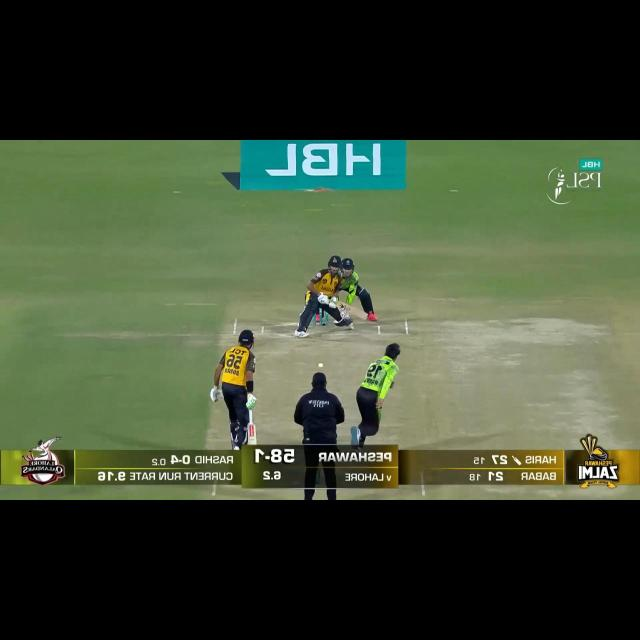bat: (333, 302, 368, 321), (247, 424, 259, 446)
toe: (358, 309, 368, 320)
